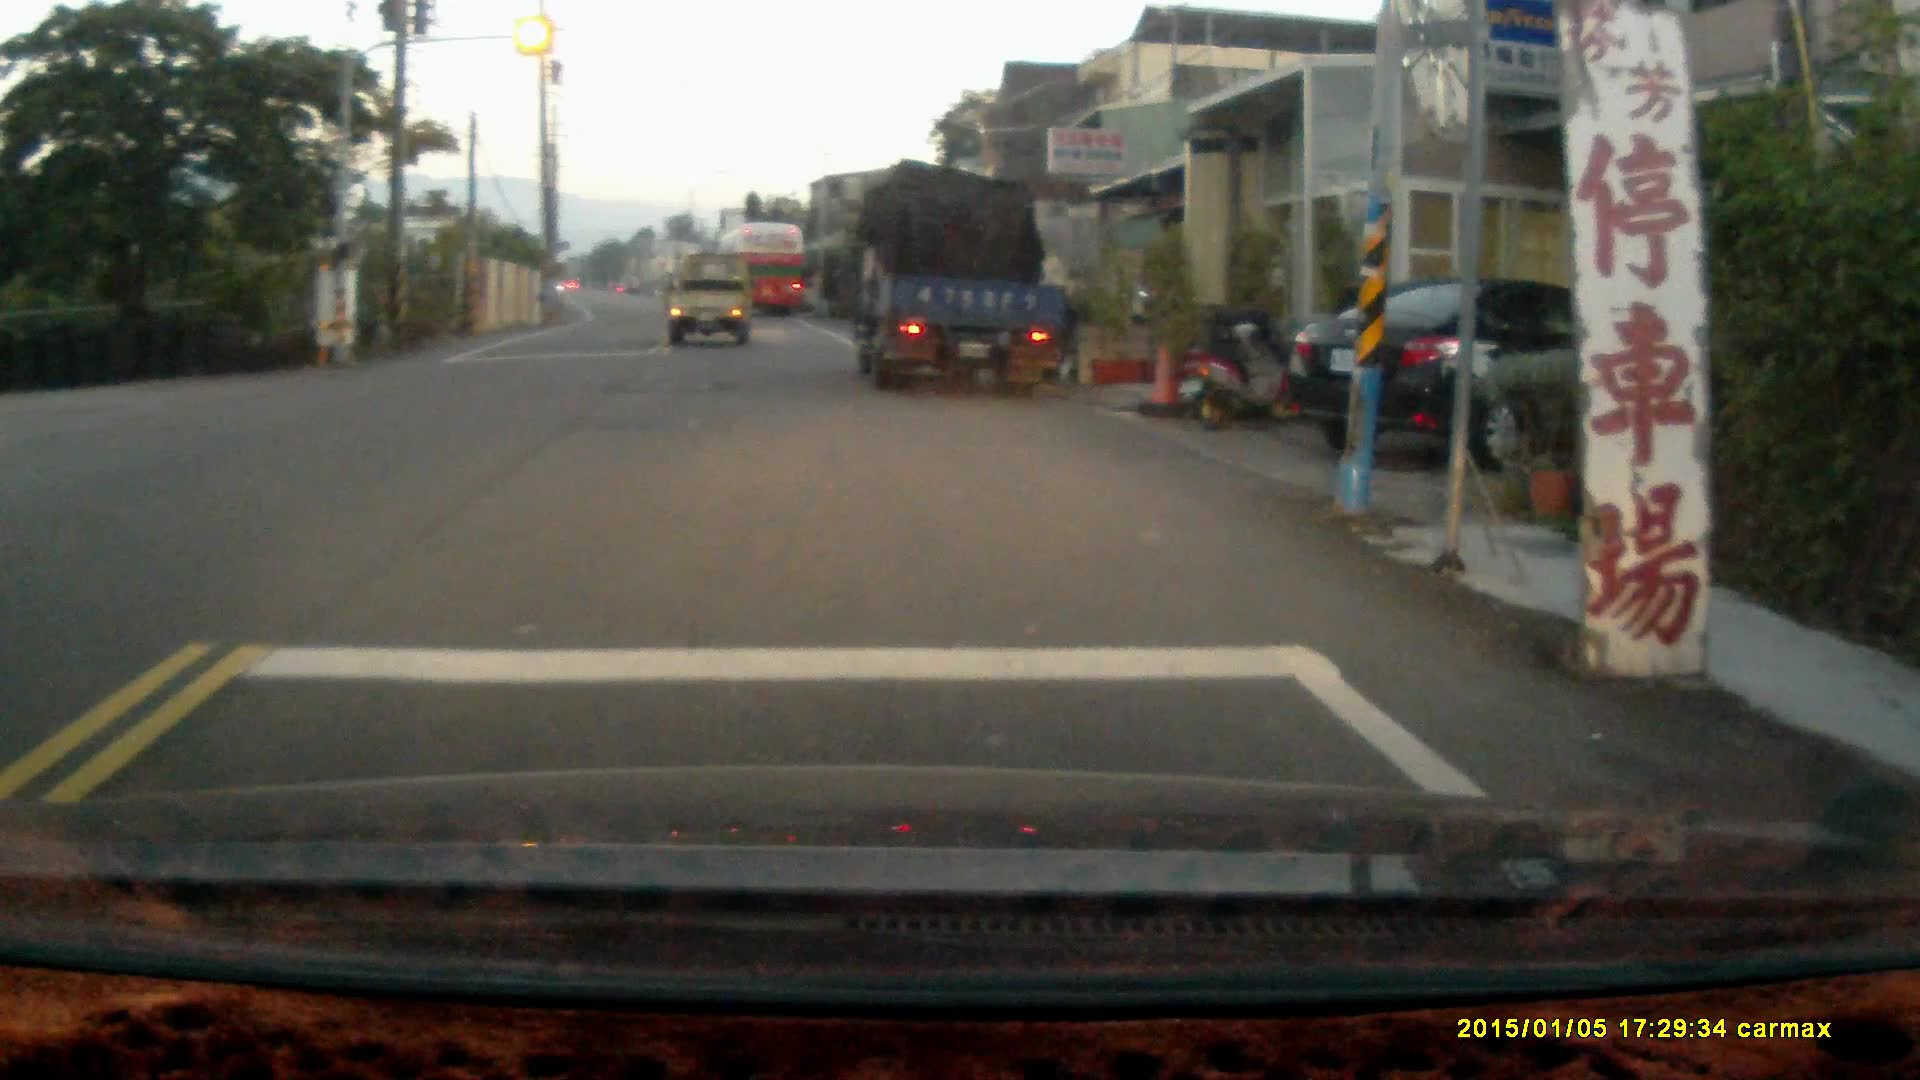vehicle: (1280, 284, 1727, 475), (857, 171, 1079, 393), (717, 223, 812, 324), (669, 256, 758, 345)
